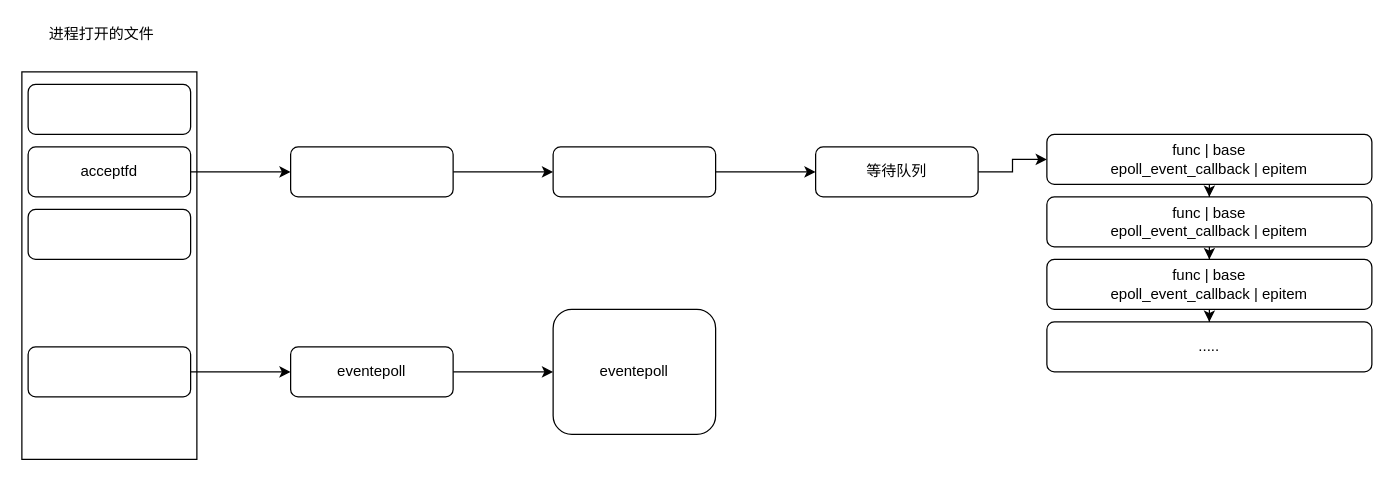
This 1394x481 diagram has some shape labels left out. Here are the shapes that lost their labels. From the top down, the box of each, then its label:
(289, 146, 453, 197): socket
(552, 146, 716, 197): sock
(27, 346, 191, 397): epollfd
